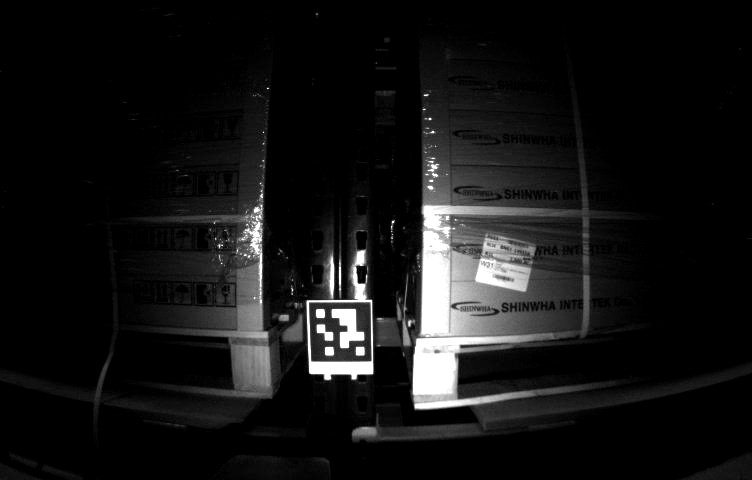True Barcode: (474, 228, 536, 296)
